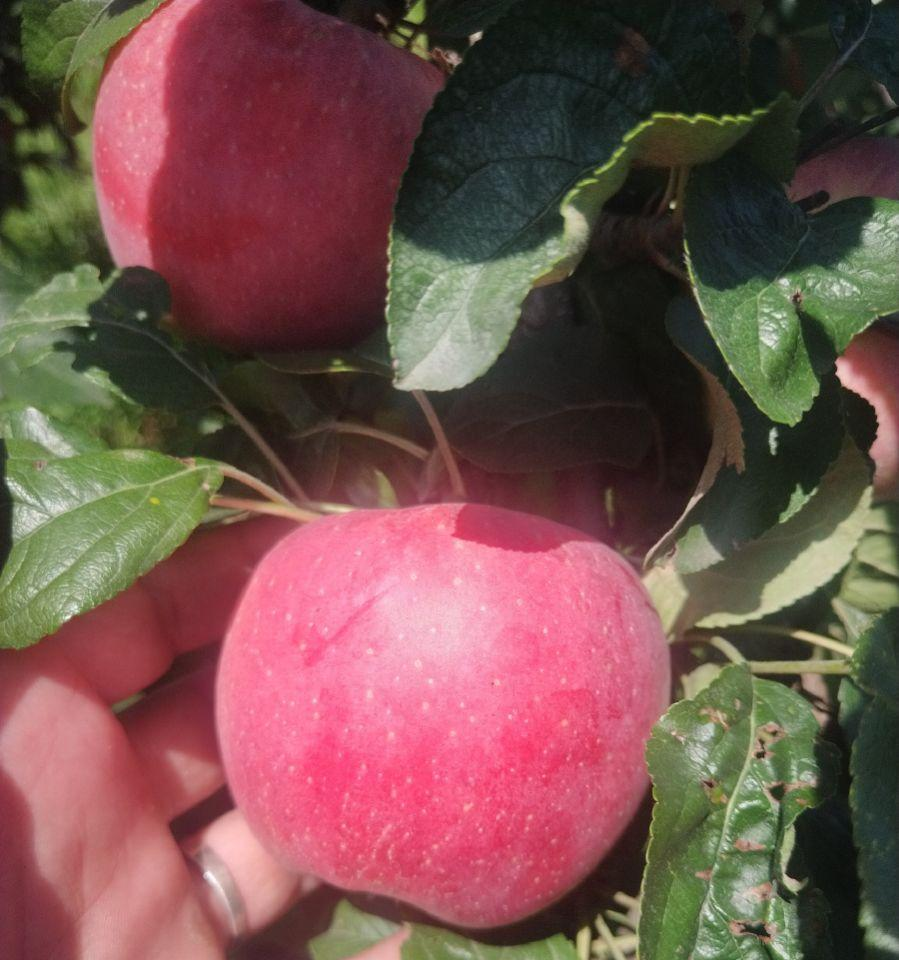apple: (215, 504, 676, 930), (81, 1, 444, 346)
